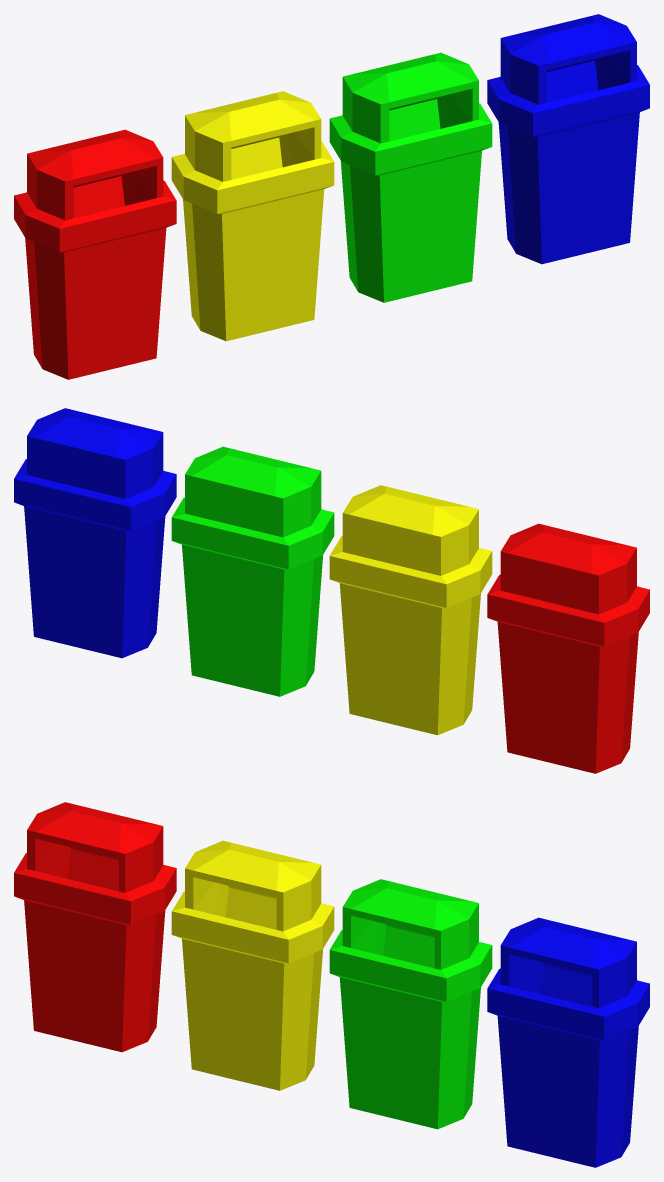
The model's file is Lixeiras.fbx.
3 views of the same model, one above another, from view 1: azimuth 30°, elevation 25°; view 2: azimuth 150°, elevation 25°; view 3: azimuth 330°, elevation 25° (orthographic).
Parts seen in each view (by area): view 1: Cube.003, Cube, Cube.001, Cube.002; view 2: Cube.003, Cube, Cube.001, Cube.002; view 3: Cube, Cube.003, Cube.002, Cube.001.
Part boxes in pixels (x1,y1,x2,y2): Cube.003: (329, 52, 492, 302); Cube: (171, 91, 334, 341); Cube.001: (487, 14, 649, 264); Cube.002: (14, 129, 176, 379); Cube.003: (171, 446, 334, 696); Cube: (329, 485, 492, 735); Cube.001: (14, 408, 176, 658); Cube.002: (487, 523, 649, 773); Cube: (171, 840, 334, 1090); Cube.003: (329, 879, 492, 1129); Cube.002: (14, 802, 176, 1052); Cube.001: (487, 917, 649, 1167).
Bounding box in the file's own units: 1164 × 385 × 150.
